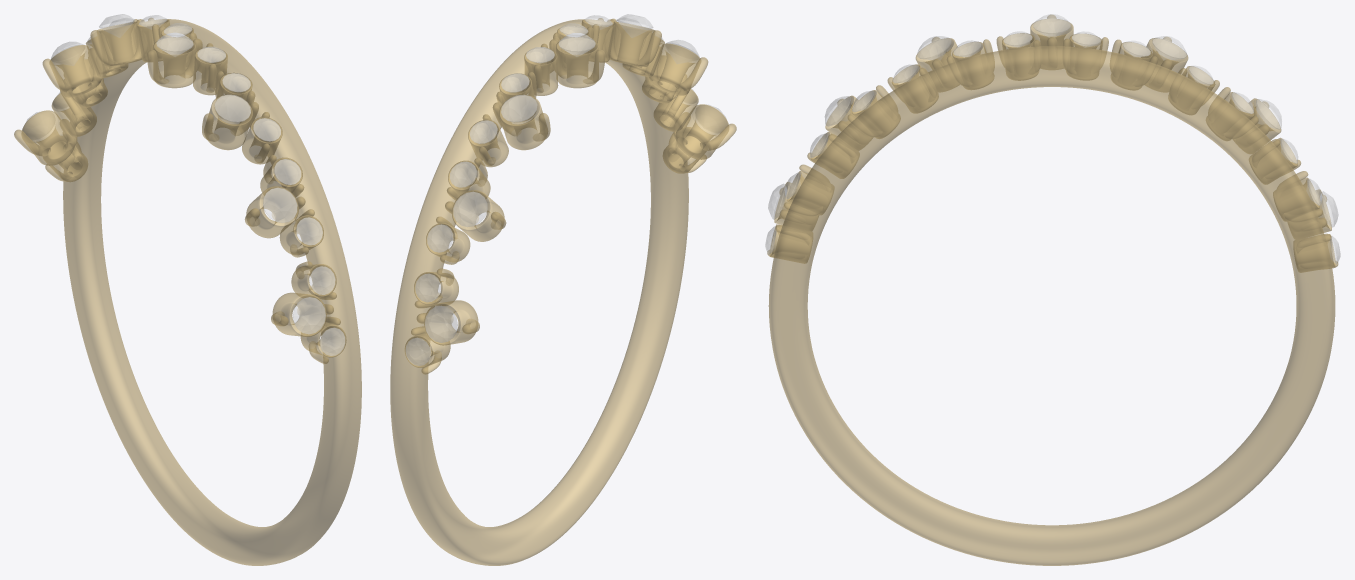
3 views of the same model, side by side, from view 1: azimuth 30°, elevation 25°; view 2: azimuth 150°, elevation 25°; view 3: azimuth 270°, elevation 25° (orthographic).
Visible parts, largest first — view 1: Sides3, diamond11; view 2: Sides3, diamond11; view 3: Sides3, diamond11.
Boxes of the visible parts, x1,y1,x2,y2 form: Sides3: (14, 18, 361, 565); diamond11: (23, 14, 344, 355); Sides3: (390, 18, 736, 565); diamond11: (406, 14, 727, 365); Sides3: (767, 15, 1338, 565); diamond11: (765, 14, 1340, 263).
Bounding box in the file's own units: 0.3565 × 2.26 × 2.24.
